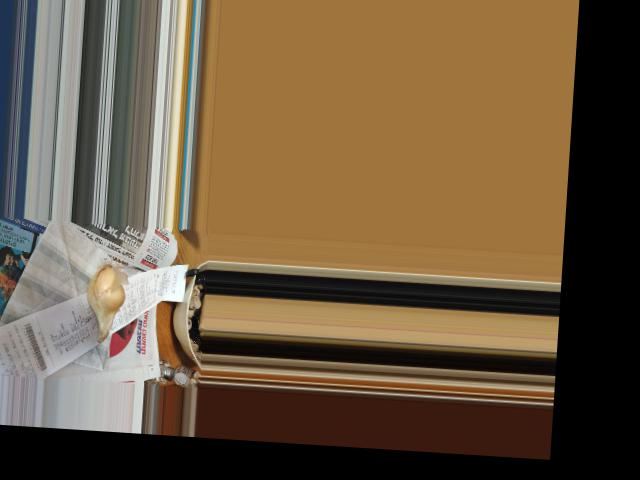onion: (87, 266, 124, 326)
